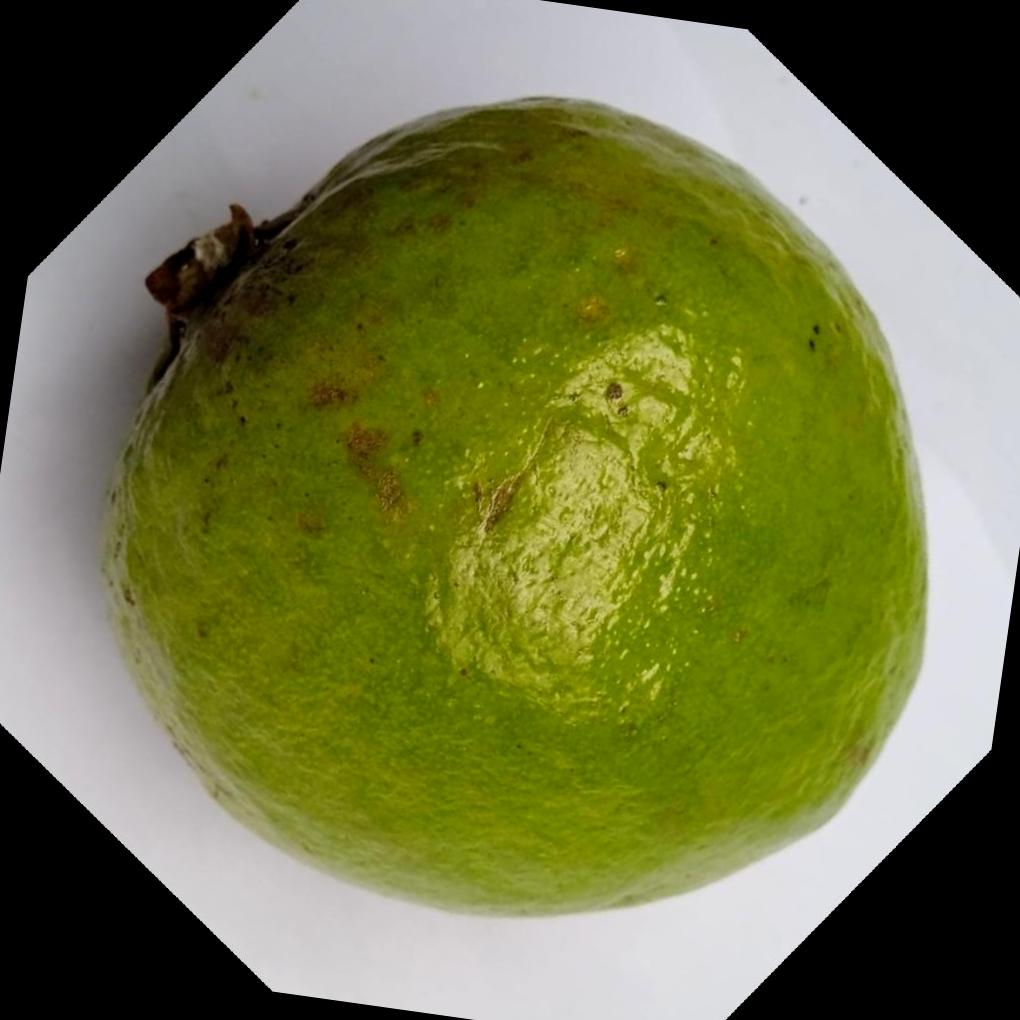FreshGuava: (102, 95, 933, 923)
